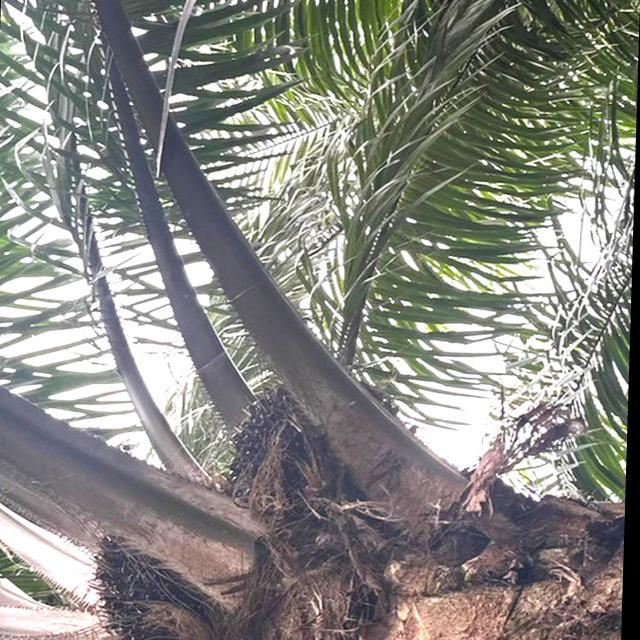almost: (223, 371, 375, 521), (80, 491, 212, 639)
